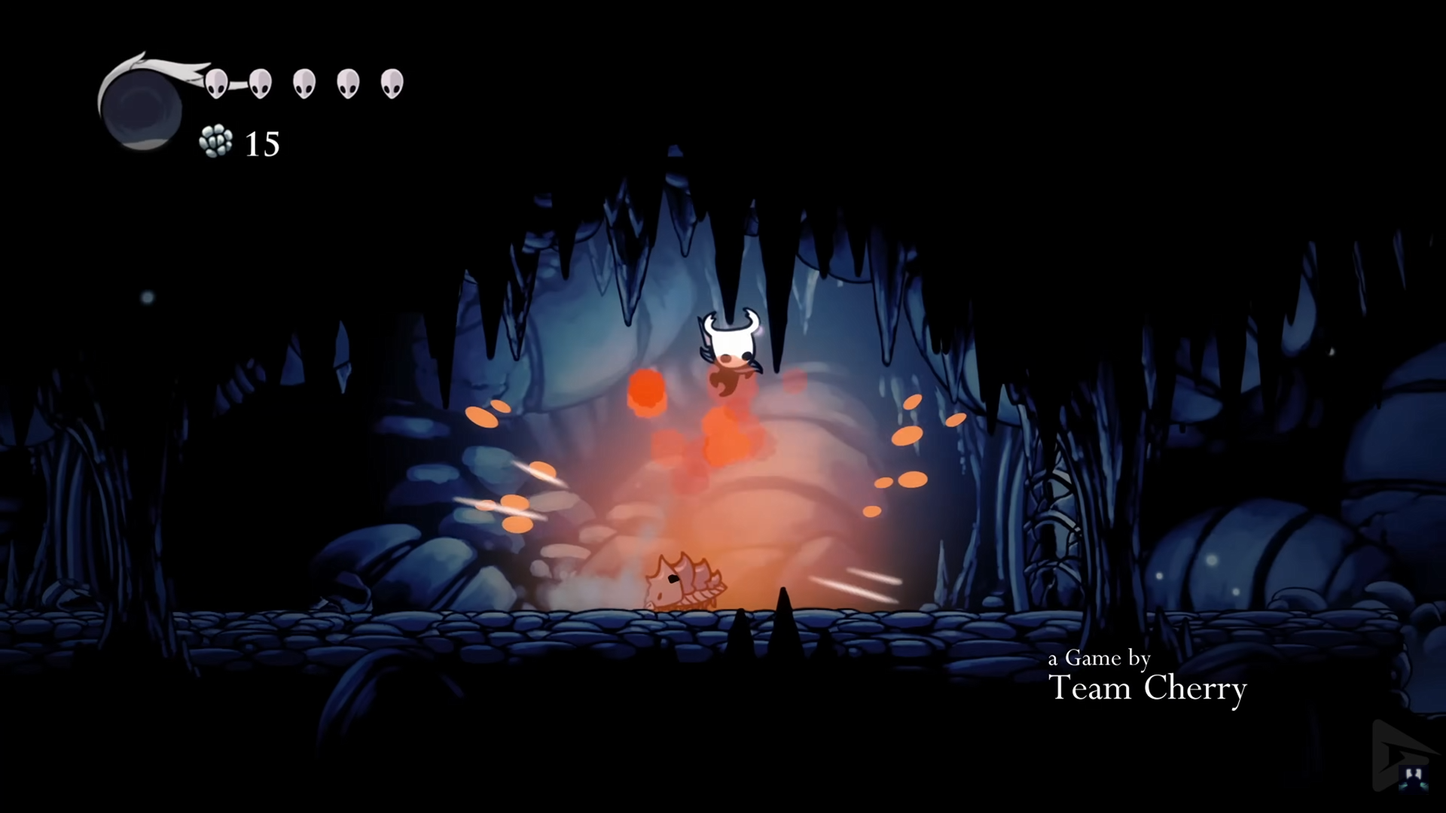HK: (695, 302, 768, 406)
